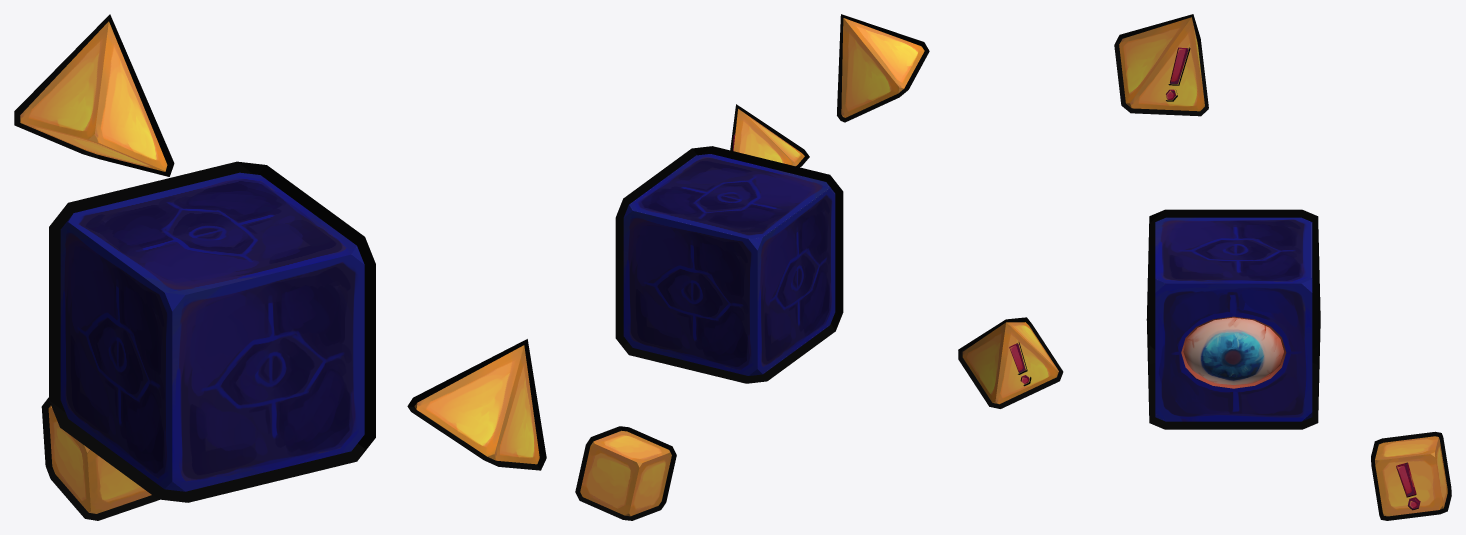
File: eye-rah2.fbx
3 views of the same model, side by side, from view 1: azimuth 30°, elevation 25°; view 2: azimuth 150°, elevation 25°; view 3: azimuth 270°, elevation 25° (orthographic). The views are drawn at different scales.
Visible parts, largest first — view 1: Main Body, Exclamation Triangle.001, Exclamation Triangle, Exclamation Square; view 2: Main Body, Exclamation Square, Exclamation Triangle.001, Exclamation Triangle; view 3: Main Body, Exclamation Triangle.001, Exclamation Triangle, Exclamation Square, Eye, Exclamation Mark.001.
Part boxes in pixels (box(x1,y1,x2,y2)): Main Body: box(49, 161, 375, 502); Exclamation Triangle.001: box(14, 14, 174, 176); Exclamation Triangle: box(407, 339, 546, 470); Exclamation Square: box(41, 397, 159, 520); Main Body: box(615, 146, 843, 383); Exclamation Square: box(575, 426, 676, 520); Exclamation Triangle.001: box(837, 14, 929, 122); Exclamation Triangle: box(730, 104, 809, 167); Main Body: box(1146, 209, 1320, 429); Exclamation Triangle.001: box(1114, 14, 1208, 116); Exclamation Triangle: box(958, 317, 1063, 408); Exclamation Square: box(1371, 431, 1451, 520); Eye: box(1183, 317, 1283, 384); Exclamation Mark.001: box(1166, 47, 1190, 101).
Bounding box in the file's own units: 188 × 292 × 292.
